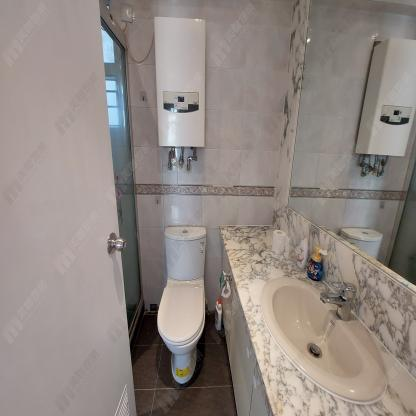Faucet: (320, 279, 359, 322)
Toilet: (155, 222, 209, 389)
Toilet Sink: (259, 278, 391, 403)
Water Heater: (154, 16, 206, 150)
